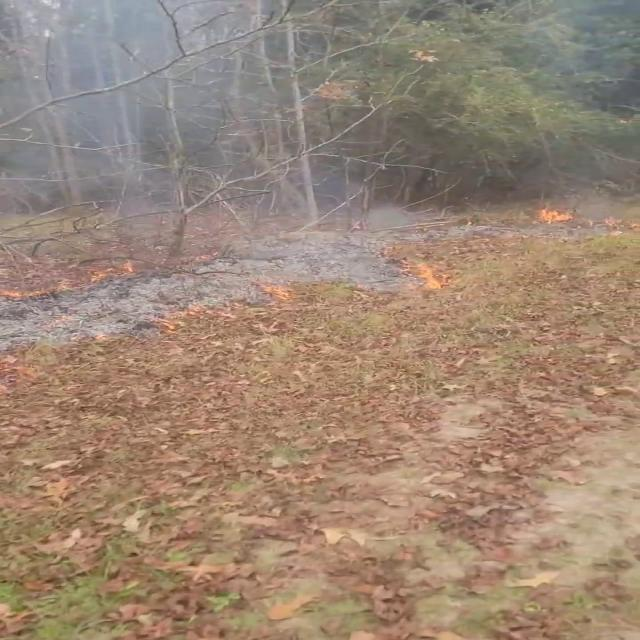Fire: (398, 245, 457, 299), (532, 202, 580, 224)
